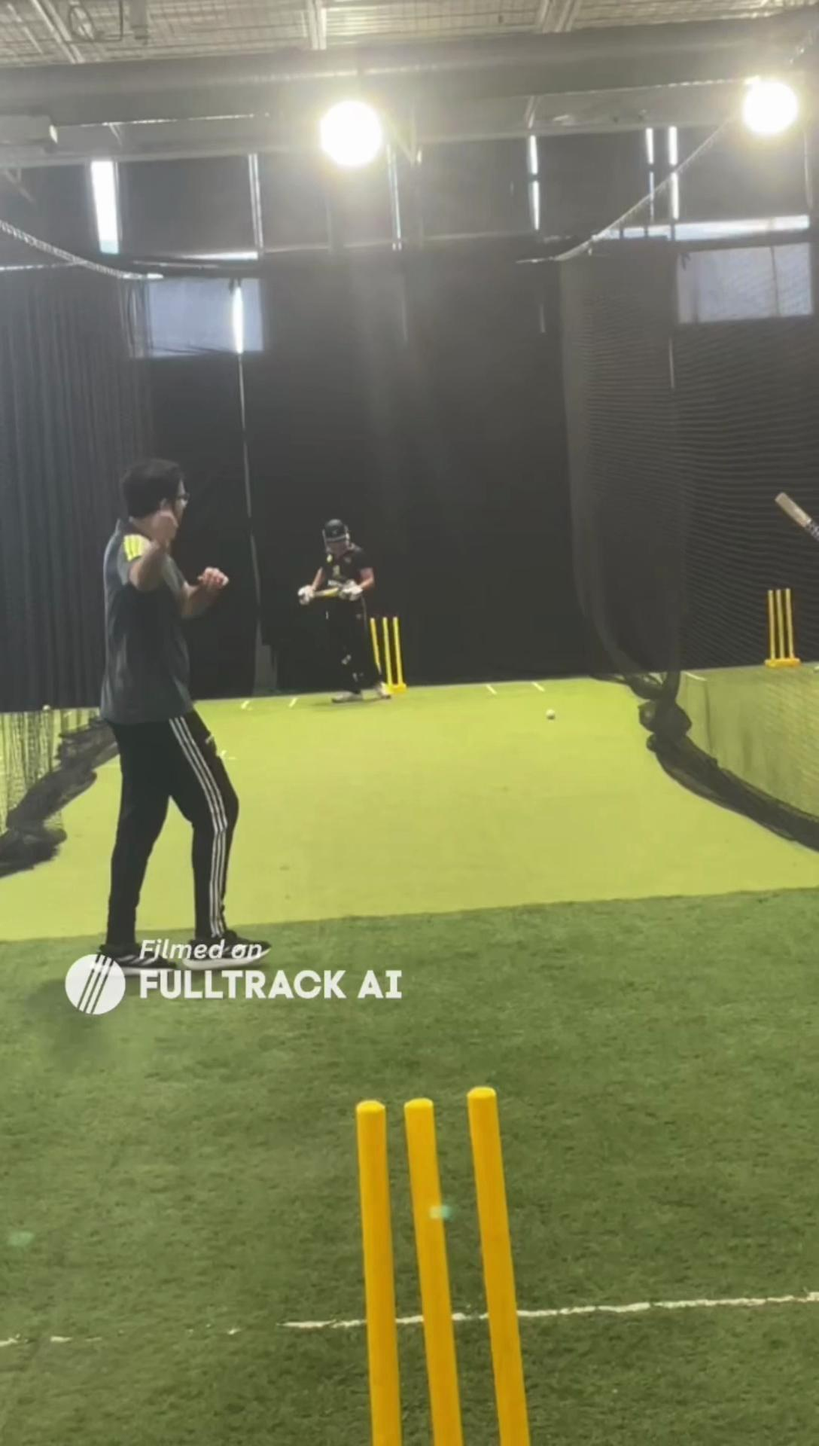ball: (544, 706, 558, 721)
